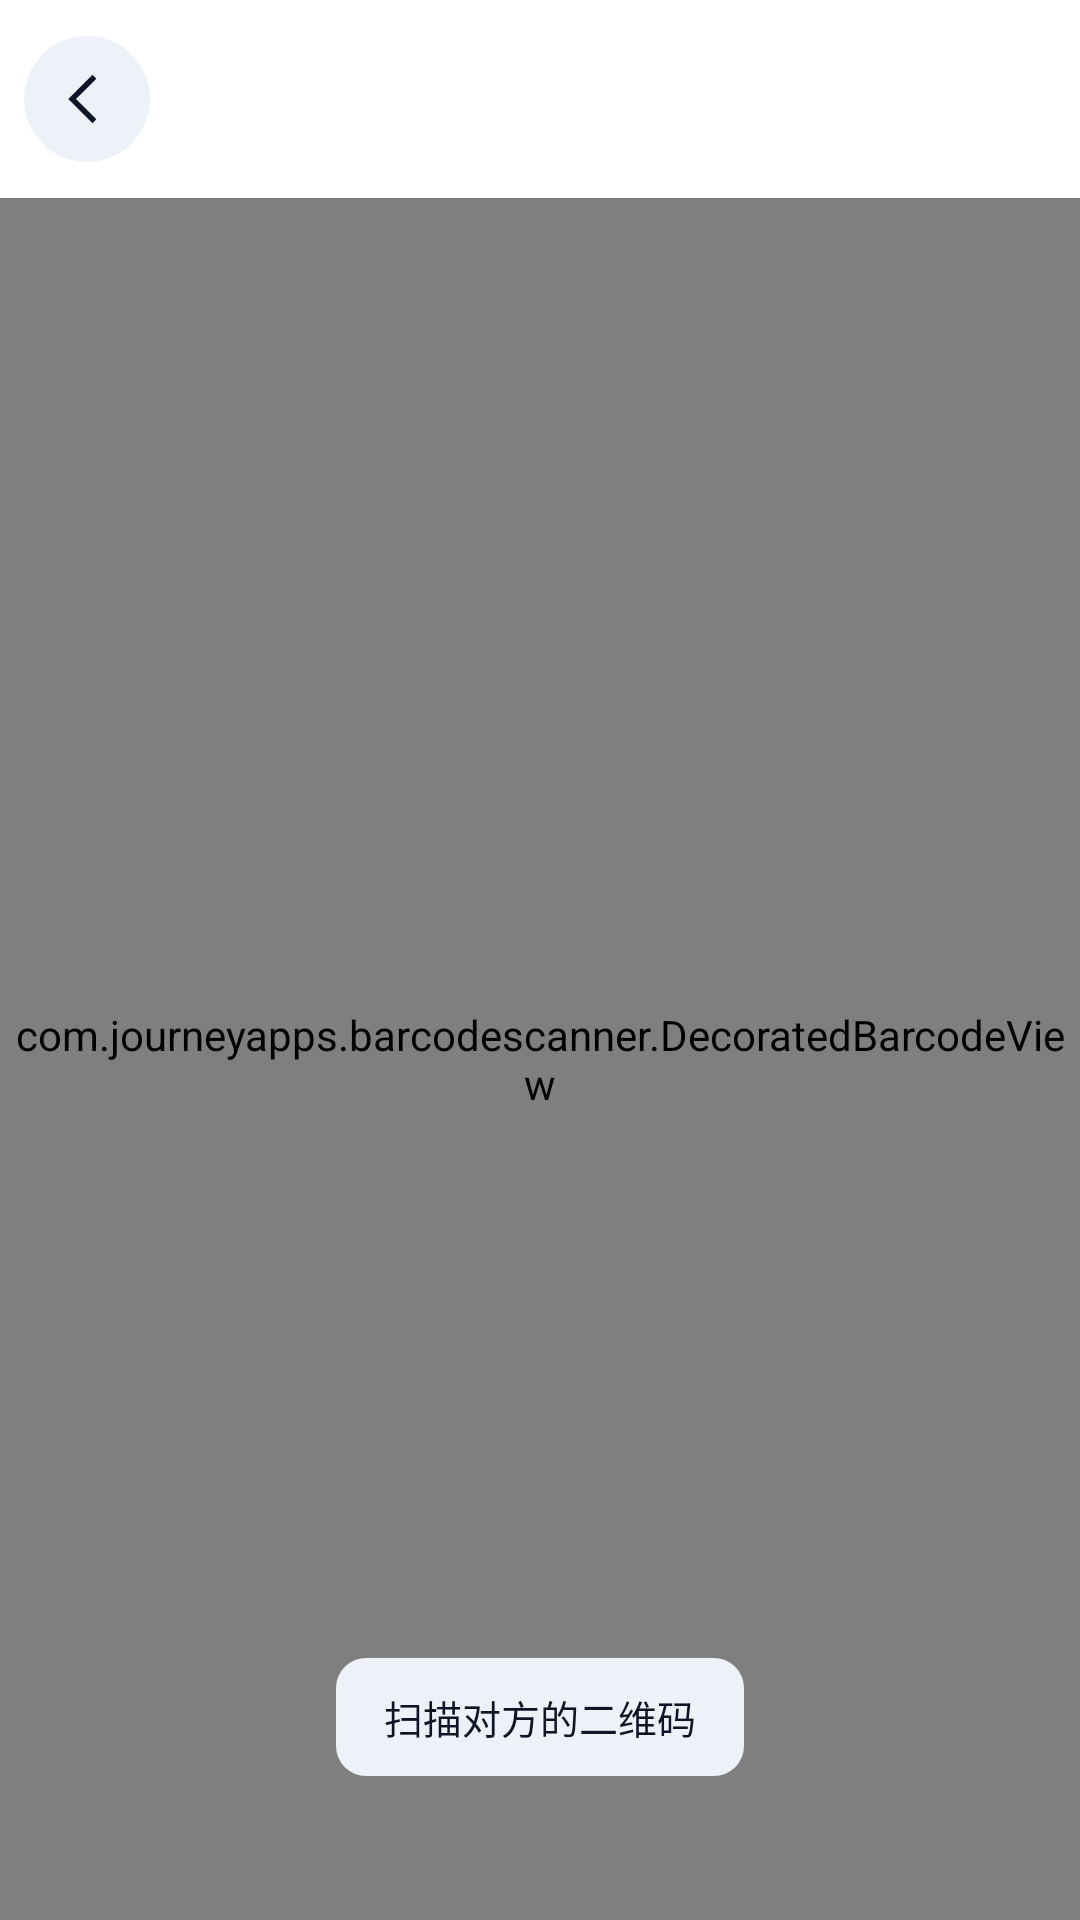

Screen size 1080*1920. Icon name, then its center in pixels as [x,y]:
返回: [87,99]
